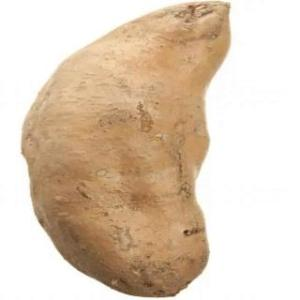potato: (19, 2, 231, 296)
